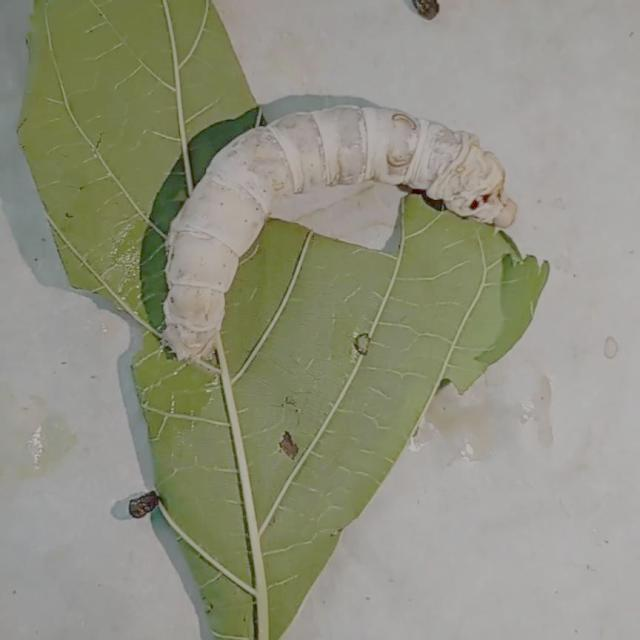Grasserie: (154, 78, 537, 368)
